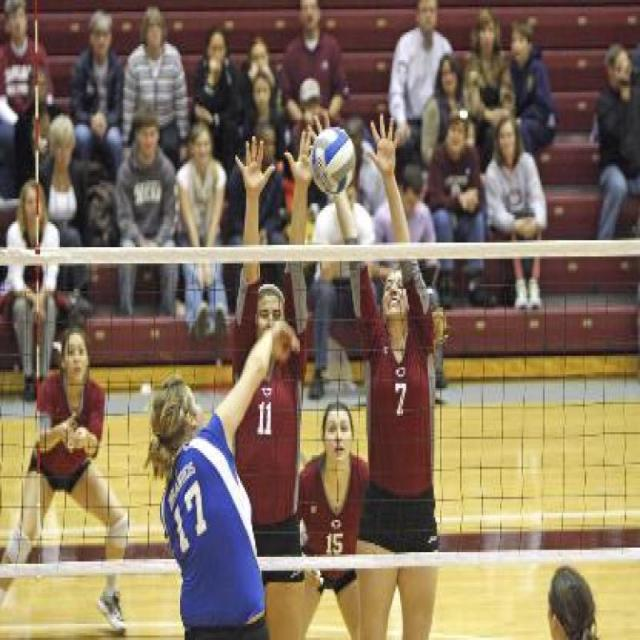volleyball: (309, 125, 357, 194)
